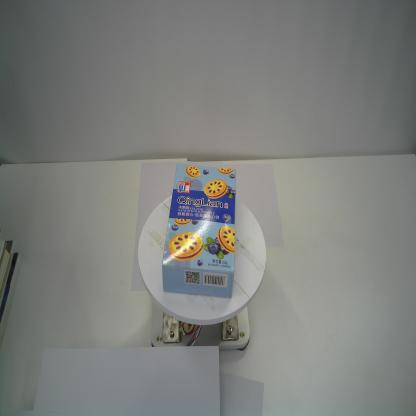Dessert: (162, 163, 236, 299)
